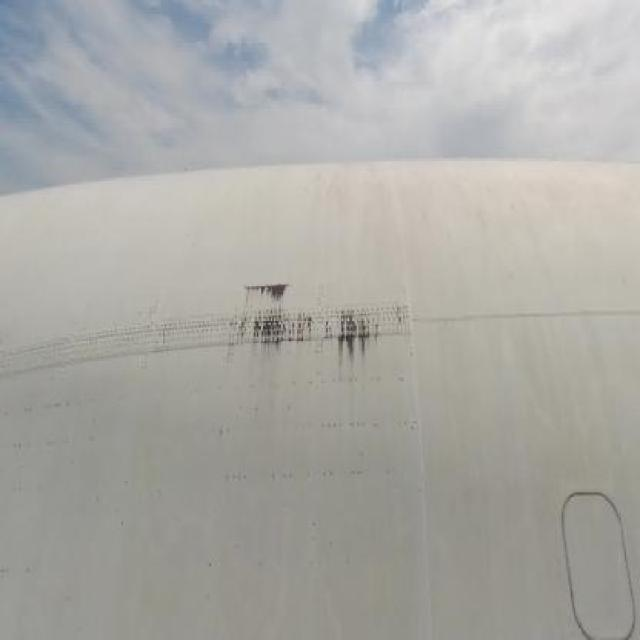Rust: (206, 259, 400, 383)
